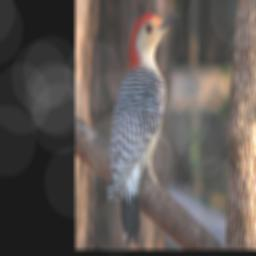Woodpecker: (106, 11, 185, 242)
